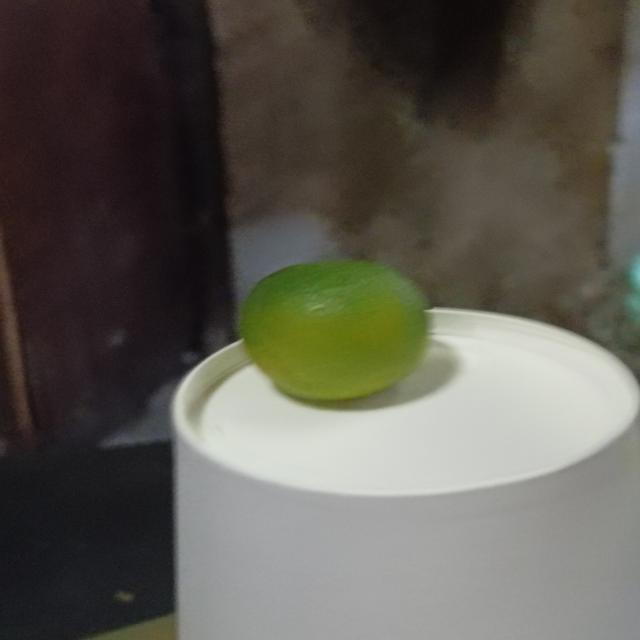heathy: (244, 261, 443, 401)
